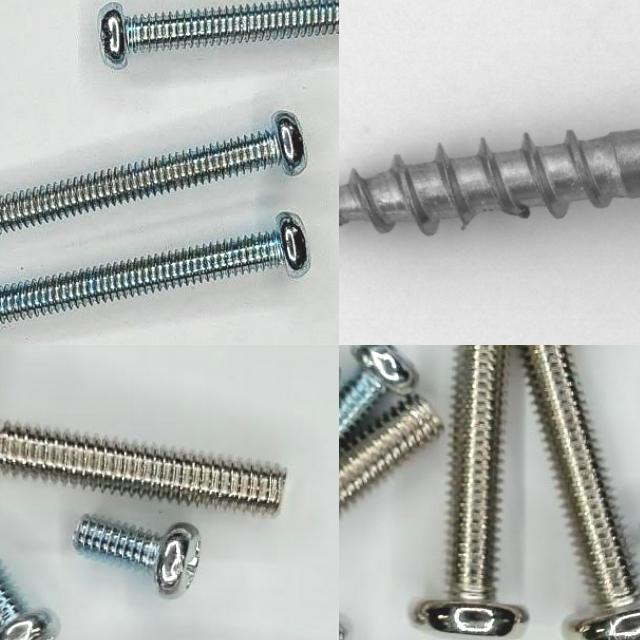Screw: (339, 26, 640, 290), (0, 111, 307, 234), (0, 212, 311, 325), (523, 345, 640, 640), (416, 345, 529, 638), (0, 422, 288, 513), (100, 0, 339, 67), (339, 394, 442, 511), (74, 515, 201, 598), (339, 345, 419, 441), (0, 560, 60, 640)
